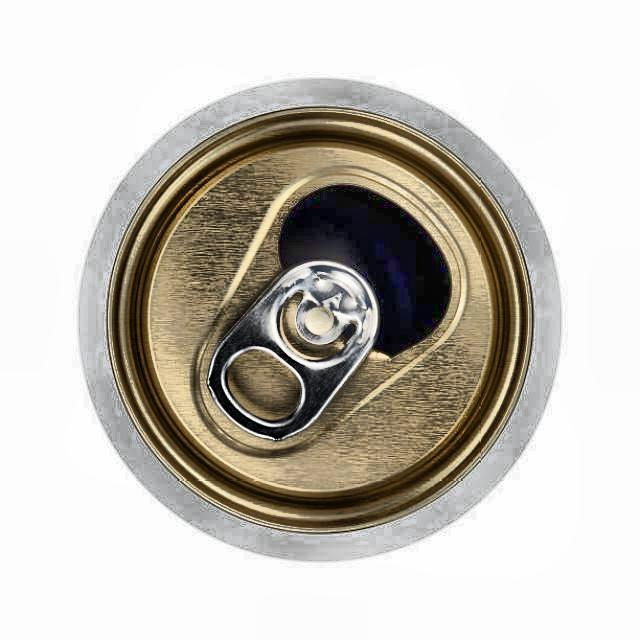metal: (78, 78, 562, 560)
